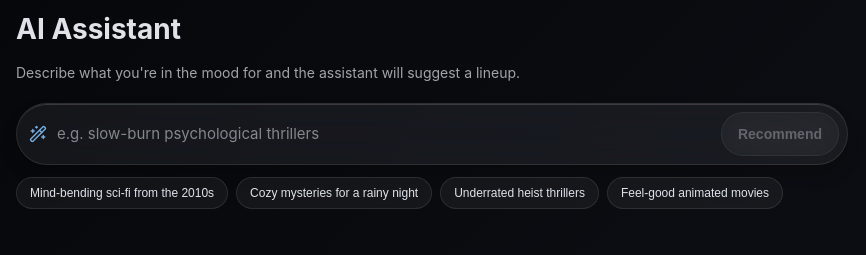
Assistant - recommend flow (local provider) › surfaces the error and shows no results on failure
This screenshot has width=866, height=255.
Type "x" into the field named "Describe what to watch" at (384, 134), box [55,117,713,151]
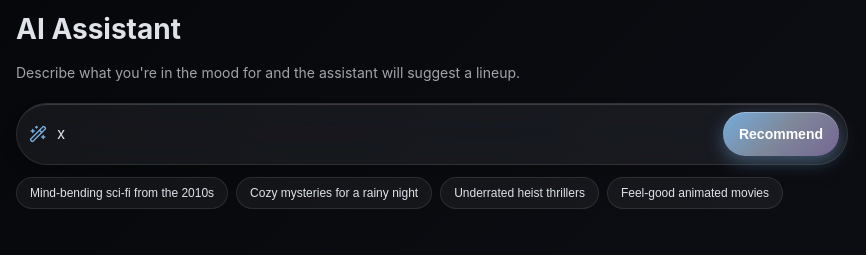
Click the button "Recommend" at (781, 134), box [723,112,839,156]
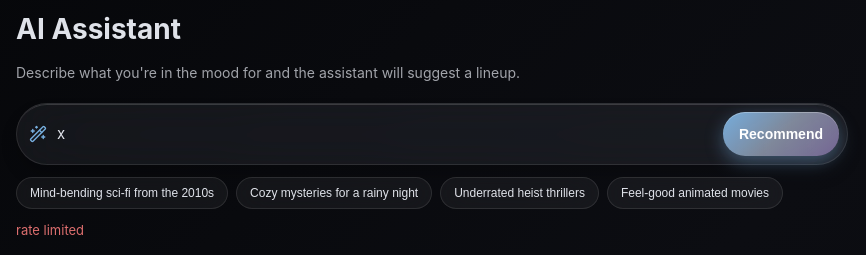
expect the text "rate limited" is shown: met, box [16,222,84,238]
